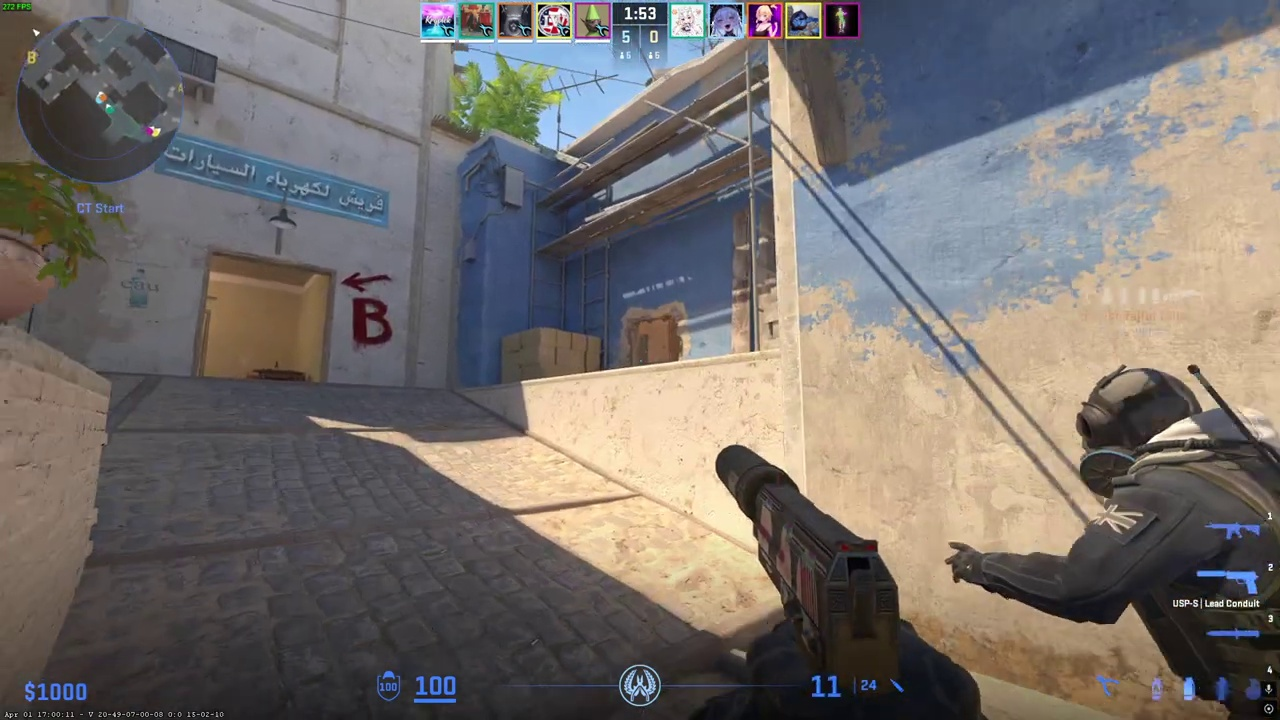CT: (1052, 364, 1280, 720)
